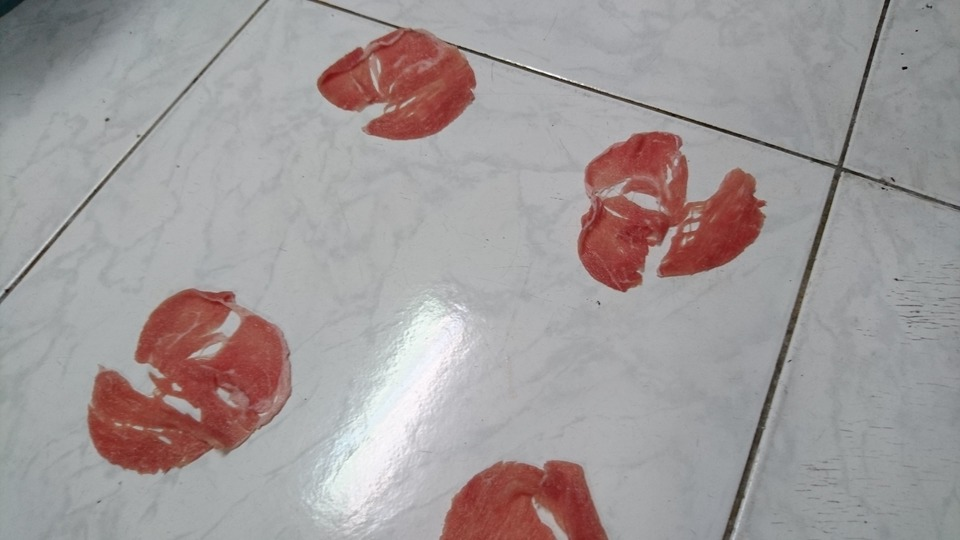restructured meat: (552, 116, 801, 300), (78, 293, 299, 462), (314, 24, 474, 139), (431, 448, 605, 540)
